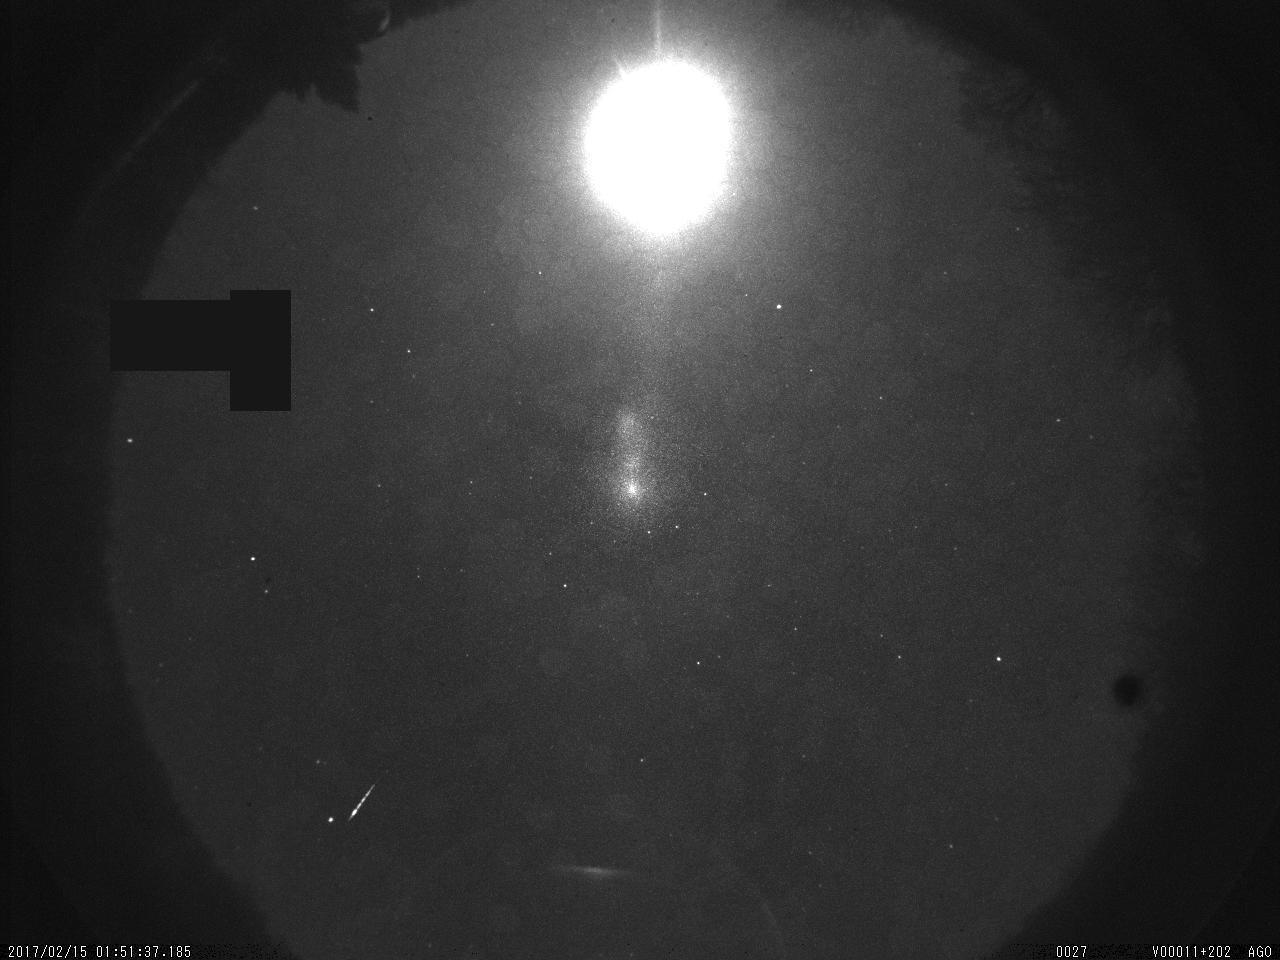meteor: (337, 768, 386, 833)
